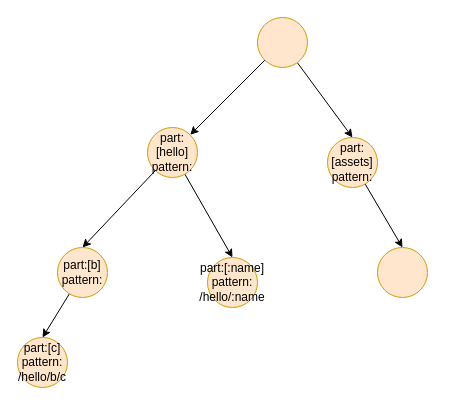
The diagram is 460 pixels wide and 405 high, and some of its shapes have lost their labels. Here are the shapes that lost their labels. From the top down, the centre of each, then its label:
pixel 282 42: part:[/] pattern:
pixel 402 272: part:[*filepath] pattern: assets/*filepath
